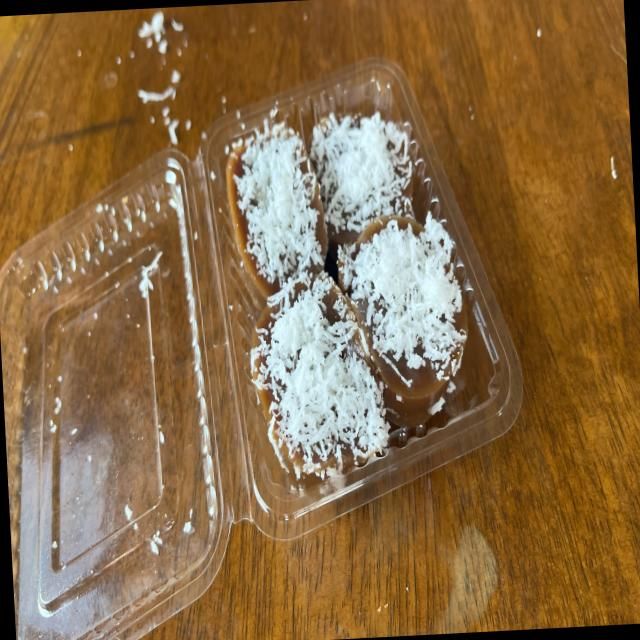Kuih lompang: (250, 273, 389, 481), (337, 212, 468, 427), (226, 120, 327, 296), (310, 112, 413, 244)
